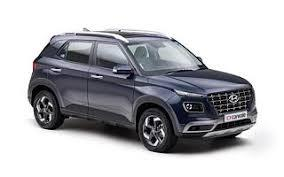car: (25, 23, 261, 157)
